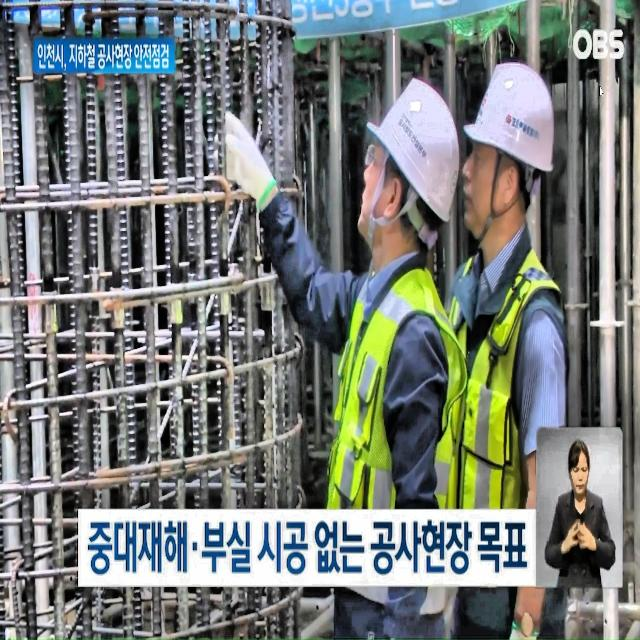safety_helmet: (365, 60, 461, 222), (461, 49, 554, 176)
safety_jacket: (322, 271, 467, 619), (430, 253, 569, 610)
